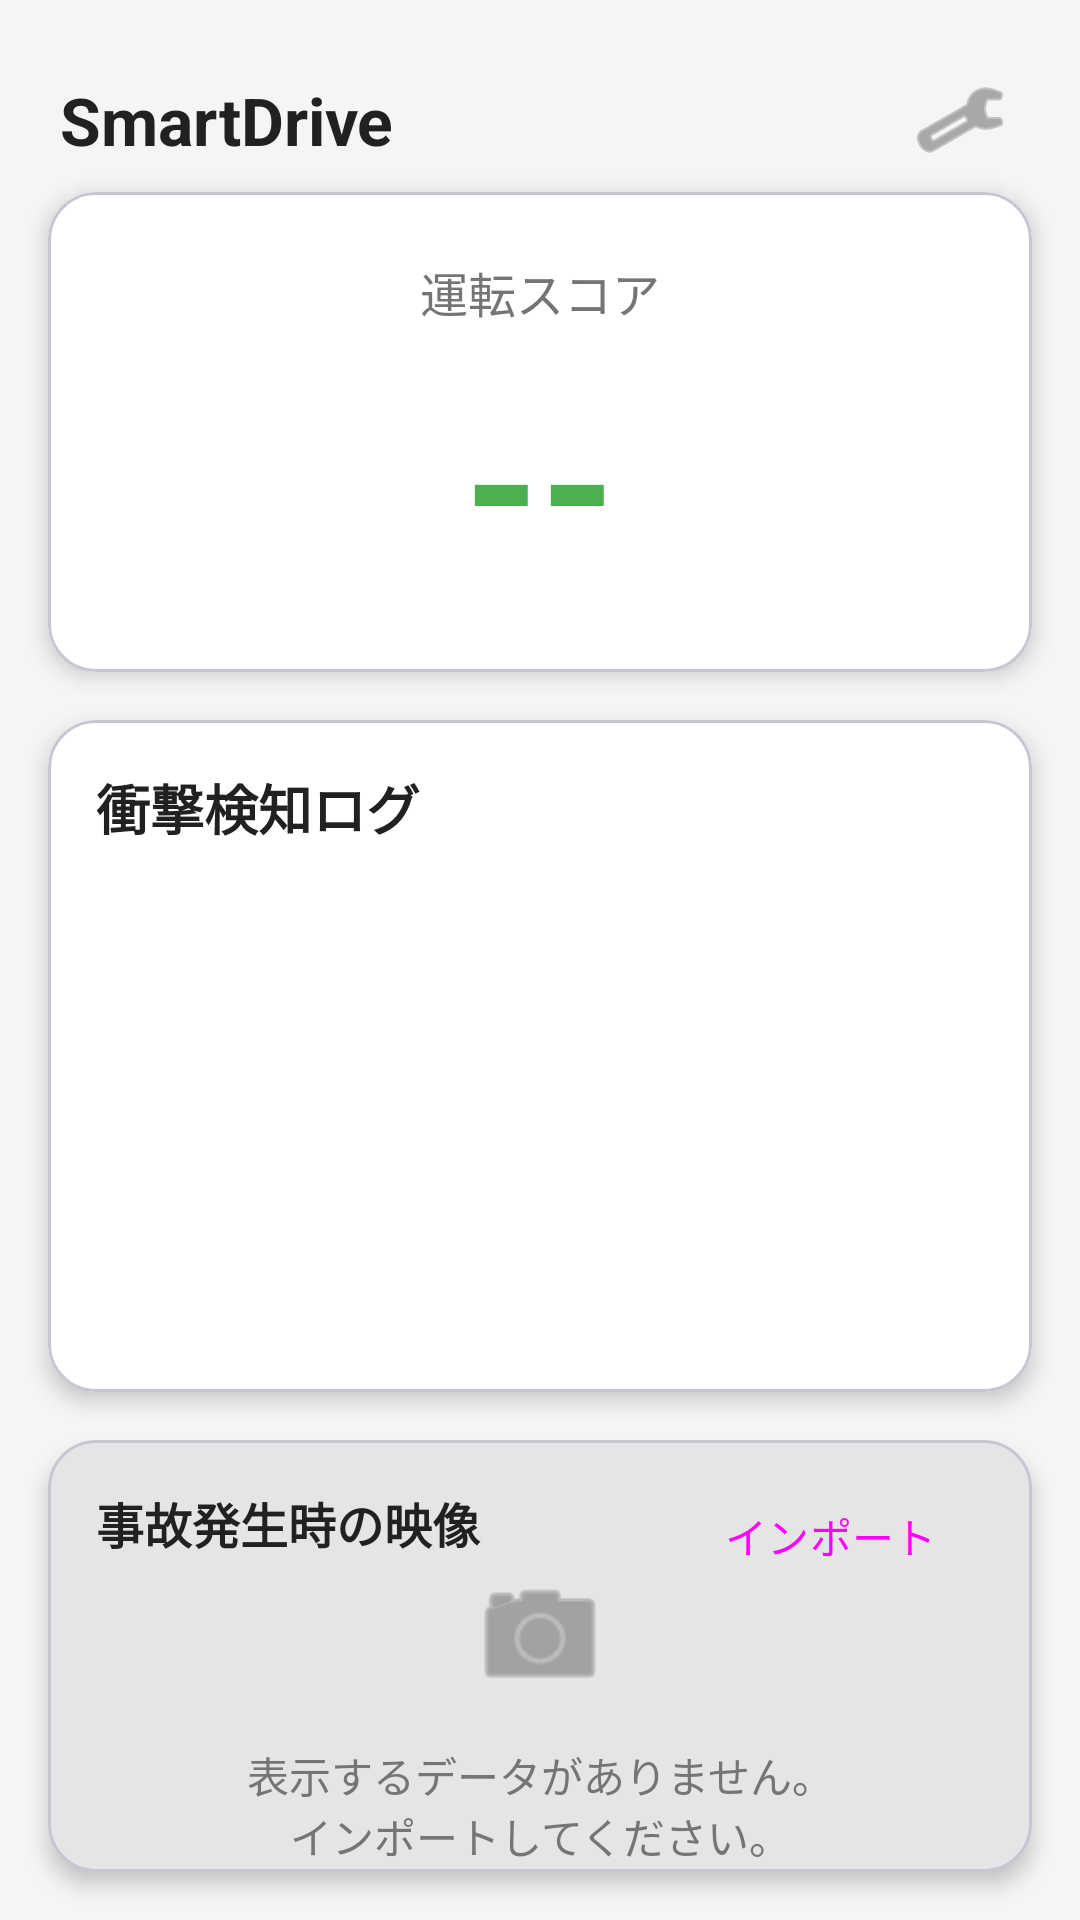

Locate icon controls on the screen. Image size 1080 × 1920, boxes as [left=x1, top=y1, right=x2, bottom=y2].
camera: [left=485, top=1590, right=595, bottom=1677]
preferences: [left=917, top=87, right=1003, bottom=153]
